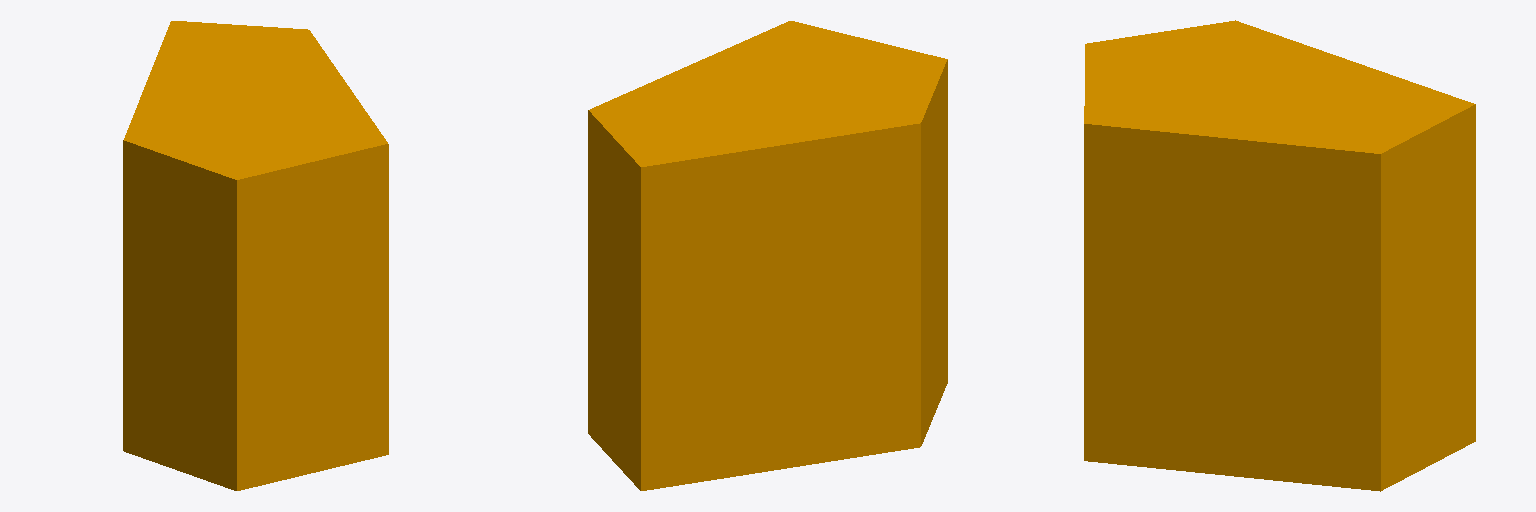
The robot description file, URDF, robot "object":
<?xml version="1.0"?>
<robot name="object">
  <link name="object">
    <visual>
      <origin xyz="0 0 0"/>
      <geometry>
        <mesh filename="meshes/generated/col_055.obj" scale="0.03 0.03 0.03"/>
      </geometry>
    </visual>
    <collision>
      <origin xyz="0 0 0"/>
      <geometry>
        <mesh filename="meshes/generated/col_055.obj" scale="0.03 0.03 0.03"/>
      </geometry>
    </collision>
    <inertial>
      <density value="1000.0"/>
    </inertial>
  </link>
</robot>

--- What the picture shows (computed from the rendered views, not written in the file) ---
The picture shows the robot from 3 angles, left to right: view 1: azimuth 30°, elevation 25°; view 2: azimuth 150°, elevation 25°; view 3: azimuth 270°, elevation 25°; orthographic projection.
Model object with 1 links and 0 joints (none), rooted at object, posed all joints at 0.
Visible links, largest first — view 1: object; view 2: object; view 3: object.
Boxes of the visible links, box(x1,y1,x2,y2) form: object: box(123, 21, 388, 490); object: box(588, 21, 947, 490); object: box(1084, 20, 1475, 491).
Size in the robot's own frame: 0.051 by 0.0631 by 0.06 metres.
1 mesh visuals loaded from 1 distinct referenced files (1 OBJ).
